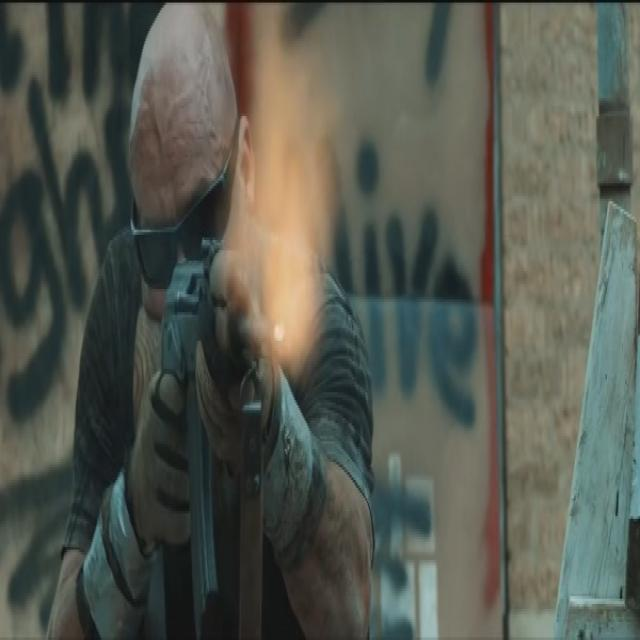rifle: (160, 238, 280, 640)
